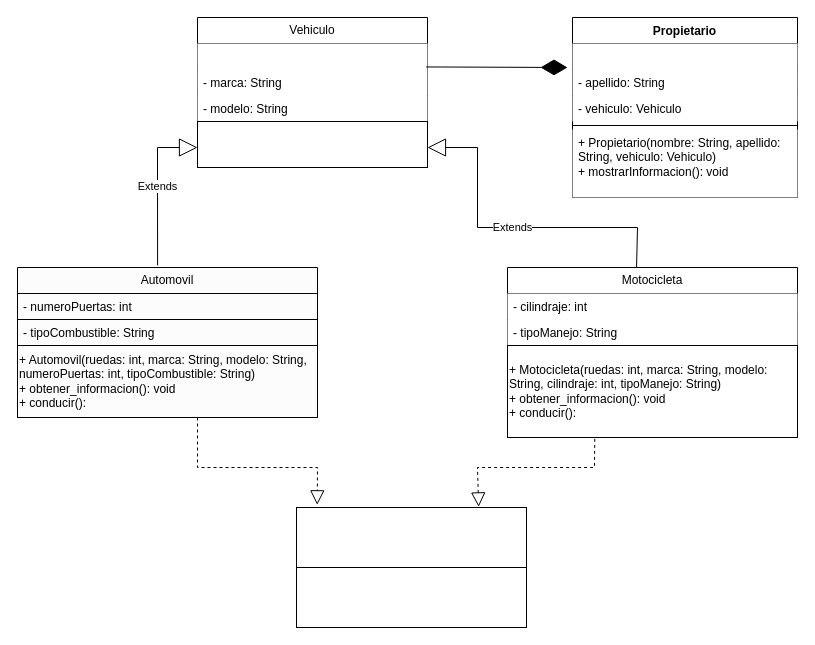
Some shapes in this 815 by 645 pixel diagram are drawn without their labels. The shapes that lost their labels are listed below. From the top down, each one's centre as x and y in pixels, then its label:
At (x=312, y=56): "- ruedas: int".
At (x=684, y=56): "- nombre: String".
At (x=312, y=144): "+ obtener_informacion(): void + Vehiculo(): void)".
At (x=411, y=537): "«interface» Conducible".
At (x=411, y=597): "+ conducir(): void".
